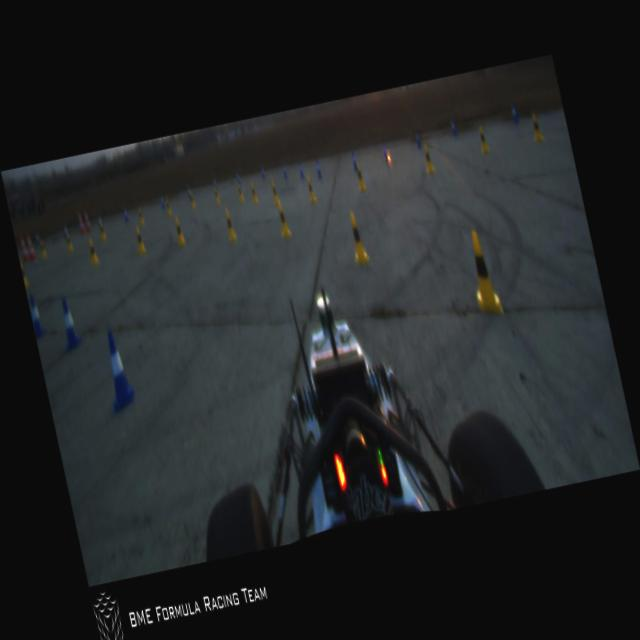blue_cone: (96, 326, 136, 412), (56, 294, 83, 352), (27, 292, 46, 336), (508, 101, 518, 123), (380, 141, 390, 162), (314, 158, 322, 180), (350, 152, 358, 172), (296, 160, 304, 180), (414, 131, 422, 150), (449, 118, 457, 134), (122, 206, 129, 222), (281, 162, 287, 178), (160, 193, 165, 209), (260, 165, 265, 178), (235, 170, 240, 183), (212, 175, 217, 188)
large_orange_cone: (18, 229, 30, 261), (24, 229, 36, 260), (75, 206, 86, 233), (82, 207, 92, 232)
yellow_cone: (462, 228, 502, 318), (344, 211, 370, 267), (274, 202, 292, 240), (223, 209, 237, 242), (528, 114, 544, 142), (172, 215, 185, 248), (422, 142, 435, 174), (476, 125, 490, 154), (86, 237, 99, 264), (304, 174, 316, 202), (354, 162, 366, 190), (134, 229, 146, 254), (20, 260, 30, 288), (270, 183, 280, 208), (64, 231, 74, 255), (38, 238, 48, 260), (97, 220, 107, 241), (136, 206, 146, 227), (163, 196, 173, 217), (249, 182, 258, 204), (188, 188, 196, 210), (212, 186, 220, 206), (236, 182, 243, 200)
